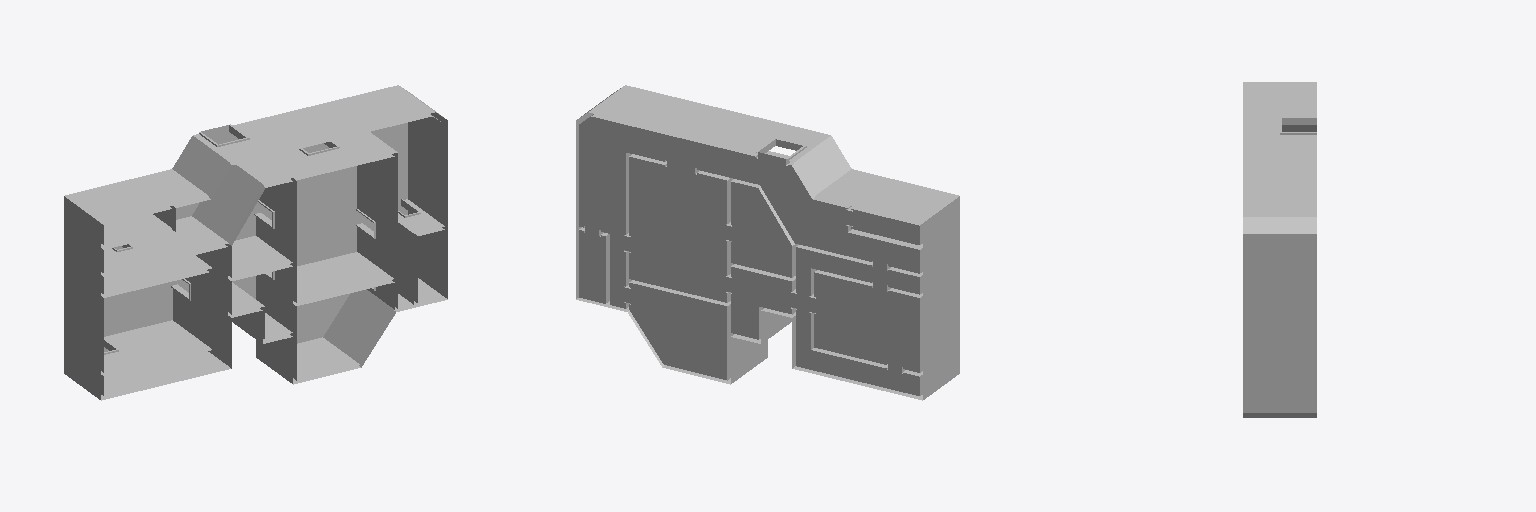
The model's file is 1stFloor.obj.
The picture shows the model from 3 angles: view 1: azimuth 30°, elevation 25°; view 2: azimuth 150°, elevation 25°; view 3: azimuth 270°, elevation 25°; orthographic projection.
Visible parts, largest first — view 1: 1stFloor; view 2: 1stFloor; view 3: 1stFloor.
Boxes of the visible parts, box(x1,y1,x2,y2) form: 1stFloor: box(64, 85, 447, 400); 1stFloor: box(576, 85, 959, 400); 1stFloor: box(1243, 82, 1316, 417).
Bounding box in the file's own units: 215 × 142 × 40.